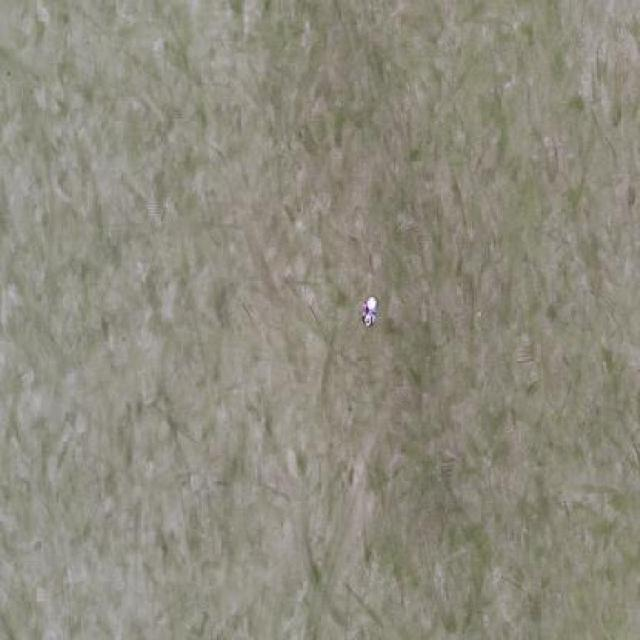Garbage: (361, 296, 378, 324)
